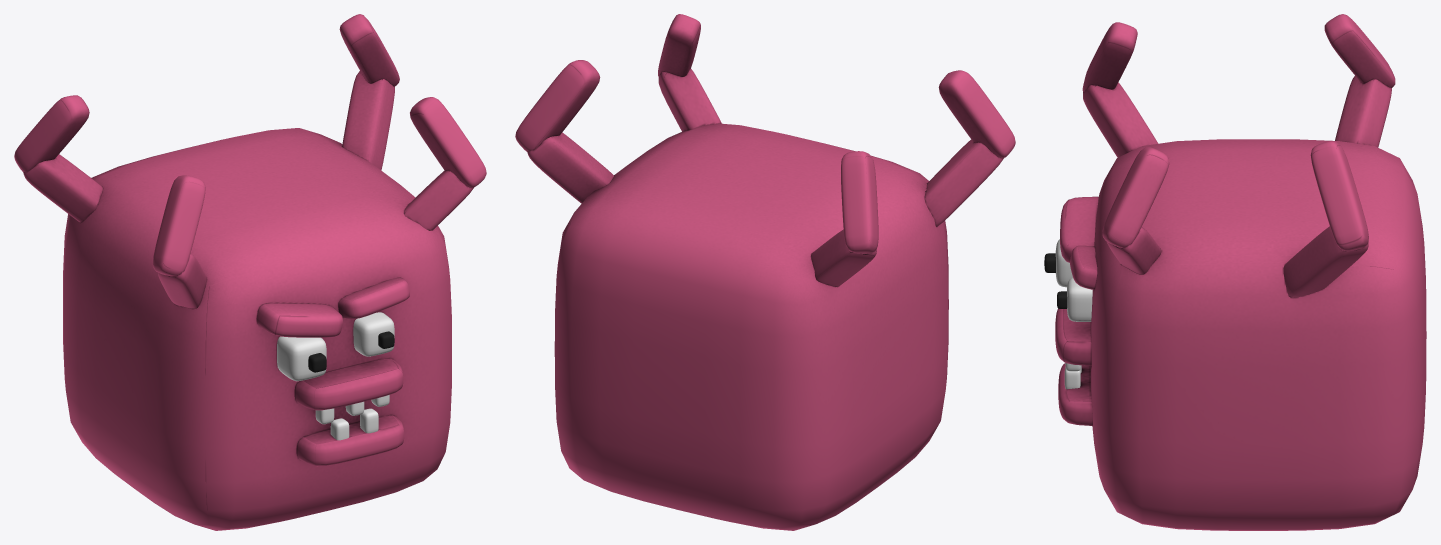
File: player.glb
3 renders of one model, left to right at view 1: azimuth 30°, elevation 25°; view 2: azimuth 150°, elevation 25°; view 3: azimuth 270°, elevation 25°, orthographic. The views are drawn at different scales.
Parts seen in each view (by area): view 1: Cube.016; view 2: Cube.016; view 3: Cube.016.
Boxes of the visible parts, bbox=[...] form: Cube.016: bbox=[14, 14, 486, 530]; Cube.016: bbox=[515, 14, 1015, 530]; Cube.016: bbox=[1044, 14, 1426, 530].
Size of the model in its own units: 1.28 by 1.36 by 1.14.
3 materials, 1 textured.
